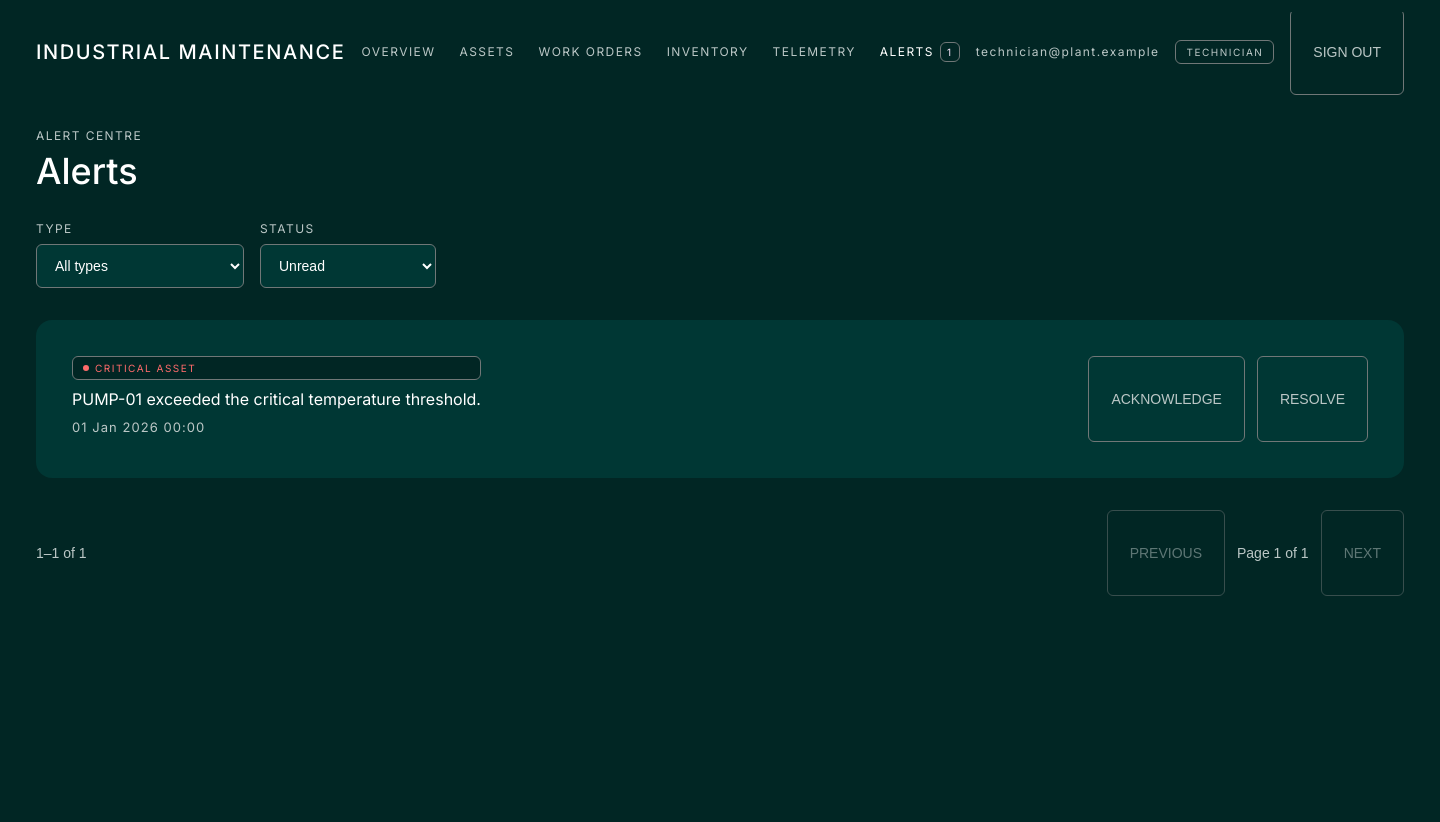
AppShell alert badge (14.4 / 14.5) › shows the unread count and clears it once the alert is acknowledged
Expected: the text "1" is shown, [940,42,960,62]
Click the button "Acknowledge" at (1167, 399), box [1088,356,1245,442]
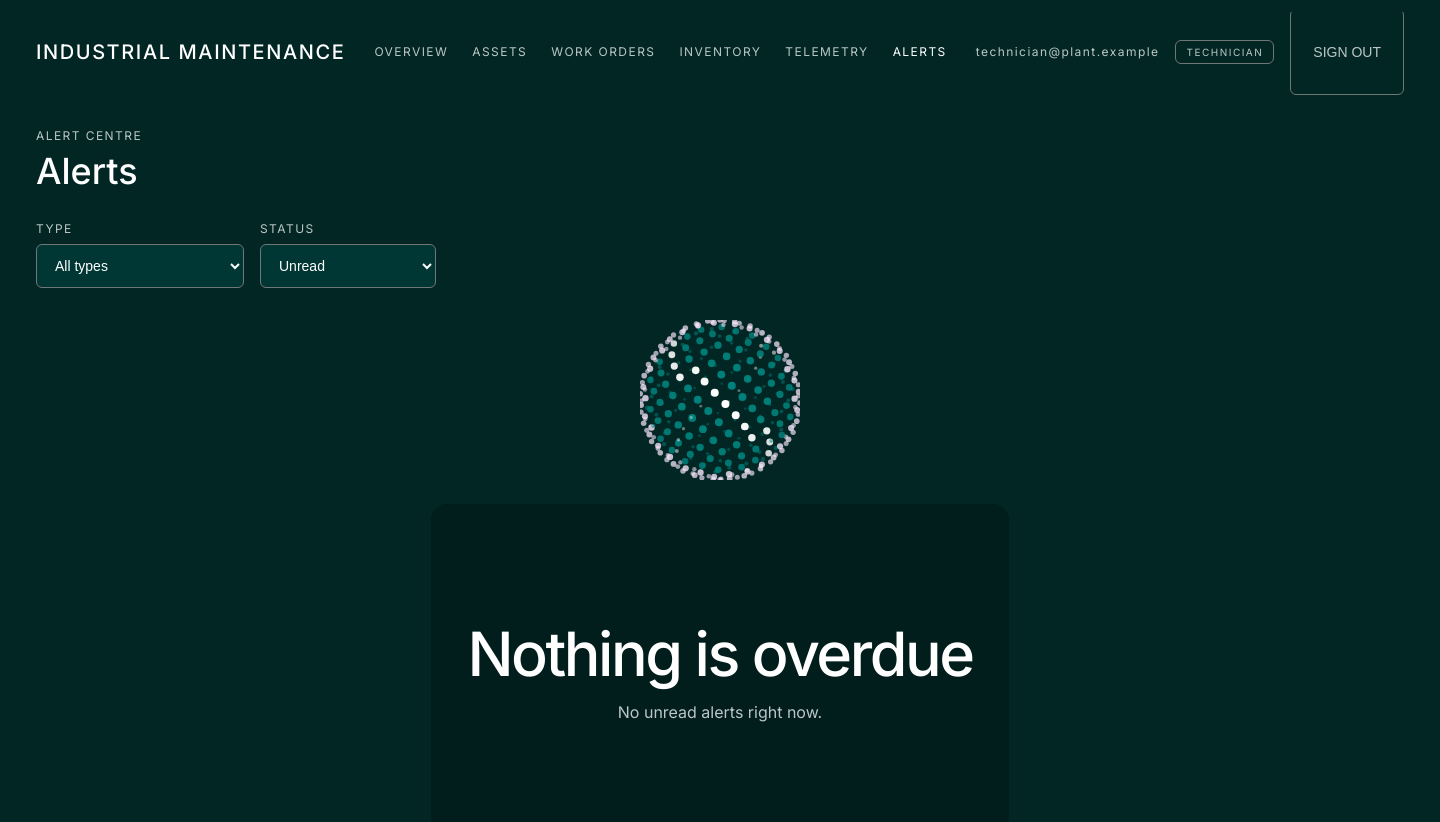
Now the text "1" is gone
